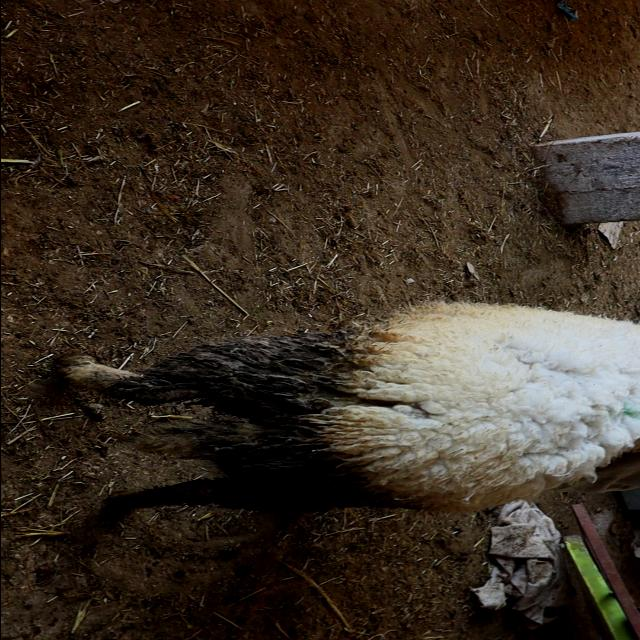Score_4: (58, 302, 640, 512)
